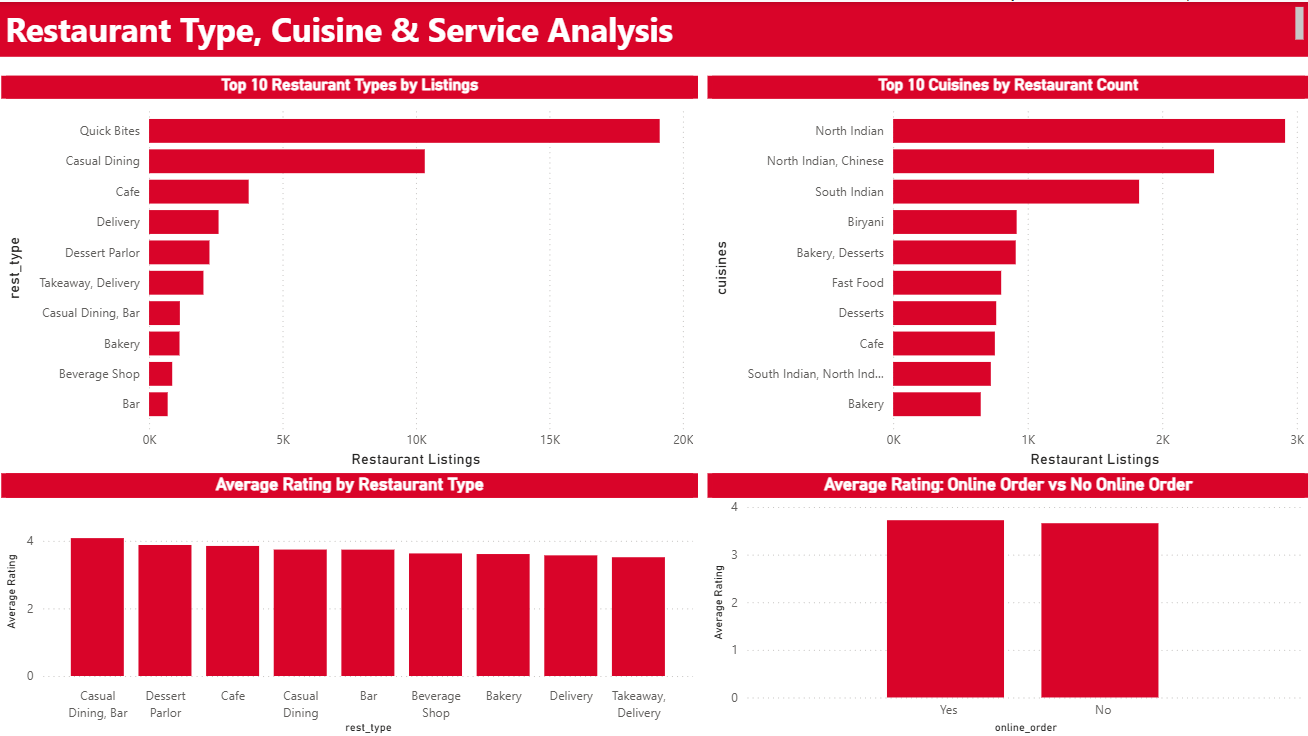

This screenshot's page, from the dashboard's own definition file:
{"tool":"powerbi","page":{"name":"Restaurant & Cuisine","canvas":[1280,720],"ordinal":3},"visuals":[{"type":"clusteredBarChart","title":"Top 10 Restaurant Types by Listings","fields":{"Category":["zomato_cleaned_final.rest_type"],"Y":["zomato_cleaned_final.Total Restaurants"]},"box":[1.4,72.7,682,388.3],"z":0},{"type":"columnChart","title":"Average Rating by Restaurant Type","fields":{"Y":["zomato_cleaned_final.Average Rating"],"Category":["zomato_cleaned_final.rest_type"]},"box":[1.4,461.1,682,259.3],"z":1000},{"type":"clusteredBarChart","title":"Top 10 Cuisines by Restaurant Count","fields":{"Category":["zomato_cleaned_final.cuisines"],"Y":["zomato_cleaned_final.Total Restaurants"]},"box":[691.6,72.7,588.7,388.3],"z":2000},{"type":"clusteredColumnChart","title":"Average Rating: Online Order vs No Online Order","fields":{"Y":["zomato_cleaned_final.Average Rating"],"Category":["zomato_cleaned_final.online_order"]},"box":[691.6,461.1,588.7,259.3],"z":3000},{"type":"textbox","box":[0,0,1280.3,53.5],"z":4000}]}

Visuals, with their boxes in screenshot pixels (x1, y1, x2, y2), scaled from the page's 1280x720 canvas onto the 1308x736 screenshot:
"Top 10 Restaurant Types by Listings" clusteredBarChart: (1,74,698,471)
"Average Rating by Restaurant Type" columnChart: (1,471,698,735)
"Top 10 Cuisines by Restaurant Count" clusteredBarChart: (707,74,1307,471)
"Average Rating: Online Order vs No Online Order" clusteredColumnChart: (707,471,1307,735)
textbox: (0,0,1307,55)
